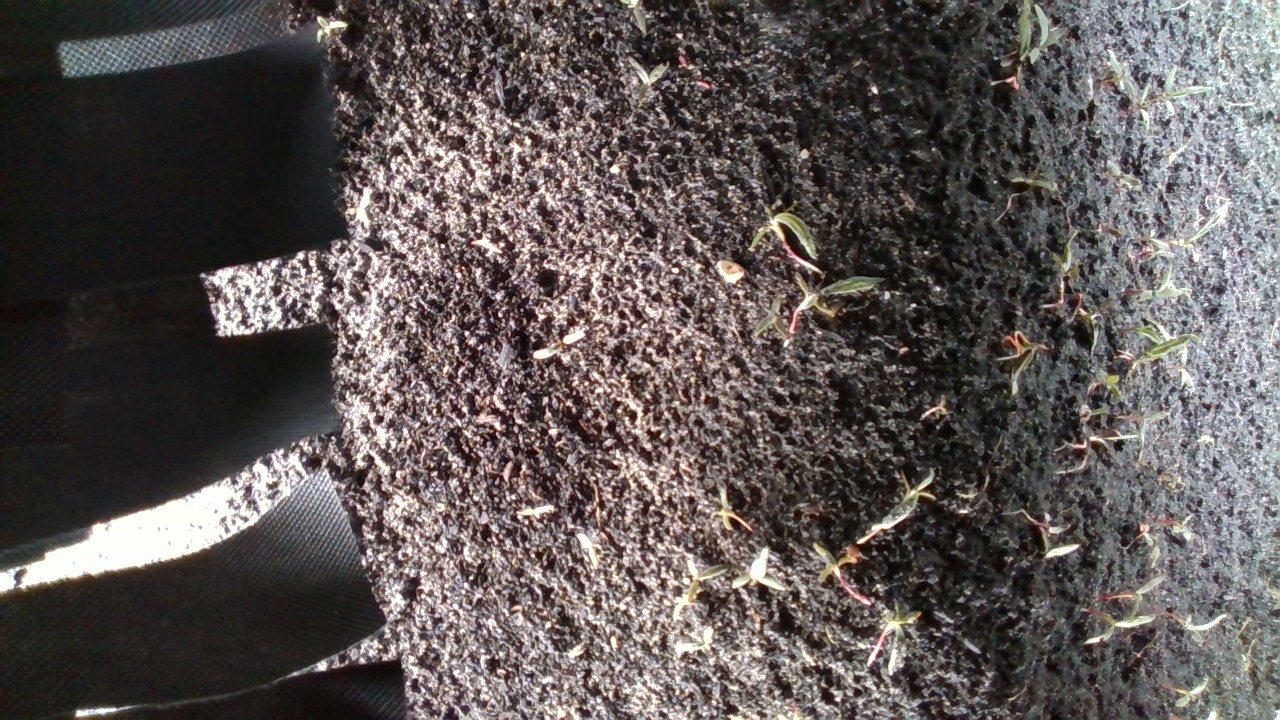weed: (704, 481, 765, 536)
